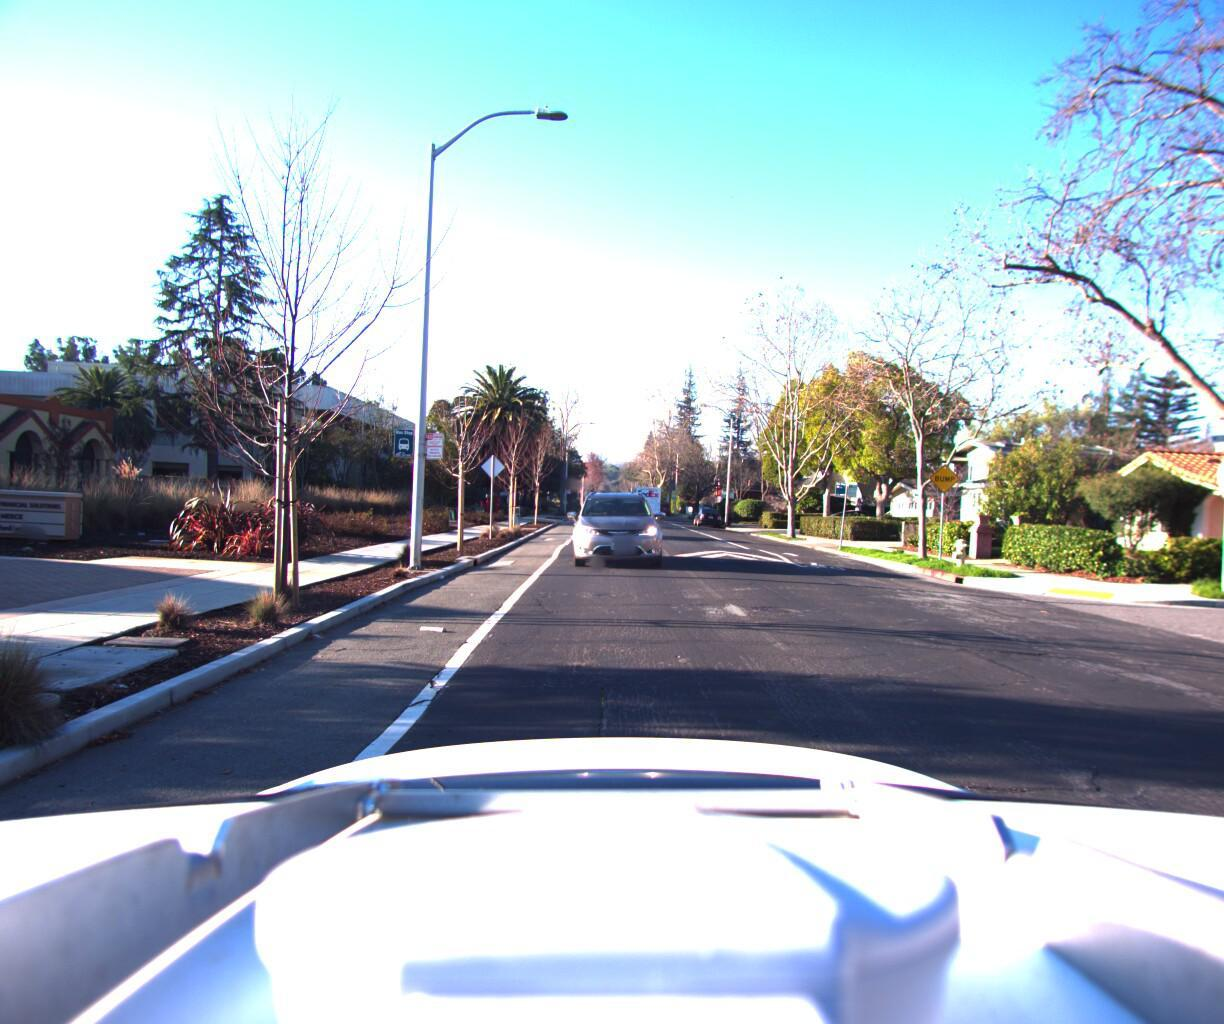car: (565, 475, 666, 573), (688, 504, 723, 525)
truck: (629, 481, 661, 517)
